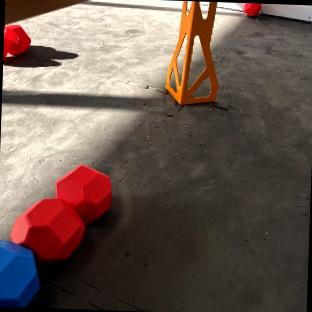Goal: (166, 1, 217, 104)
V5_BLUE: (0, 240, 39, 307)
V5_RED: (11, 165, 111, 265), (3, 24, 29, 58), (244, 3, 261, 16)
